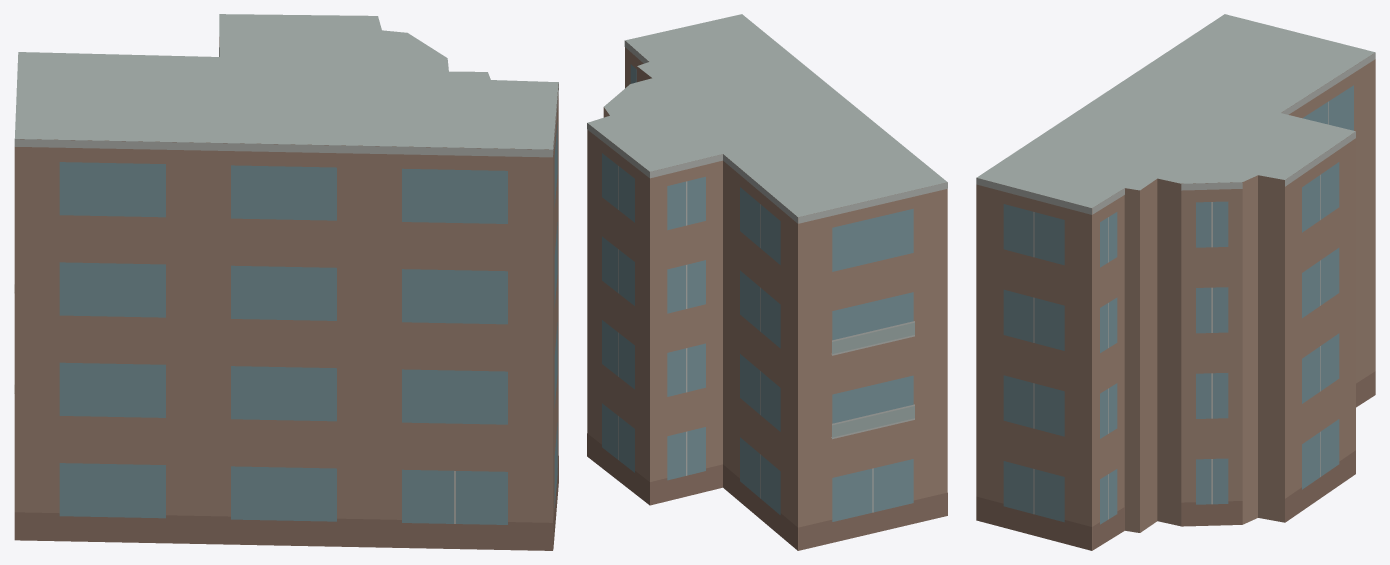
The model's file is survey-upis-32624308.glb.
The picture shows the model from 3 angles, left to right: view 1: azimuth 30°, elevation 25°; view 2: azimuth 150°, elevation 25°; view 3: azimuth 270°, elevation 25°; orthographic projection. The views are drawn at different scales.
Visible parts, largest first — view 1: survey-upis-32624308.tmp; view 2: survey-upis-32624308.tmp; view 3: survey-upis-32624308.tmp.
Part boxes in pixels (x1=…): survey-upis-32624308.tmp: x1=14, y1=14, x2=558, y2=550; survey-upis-32624308.tmp: x1=587, y1=14, x2=947, y2=550; survey-upis-32624308.tmp: x1=976, y1=14, x2=1375, y2=550.
Bounding box in the file's own units: 15.08 × 12.4 × 13.1.
